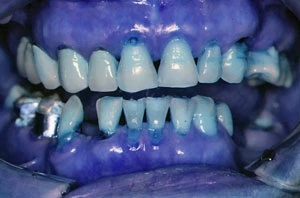karies: (124, 127, 143, 148), (148, 128, 167, 146), (232, 34, 254, 48), (56, 133, 76, 148), (27, 40, 44, 57), (203, 37, 223, 51), (97, 126, 115, 139), (175, 127, 192, 138), (126, 33, 140, 46), (91, 43, 108, 52), (57, 43, 70, 50)
